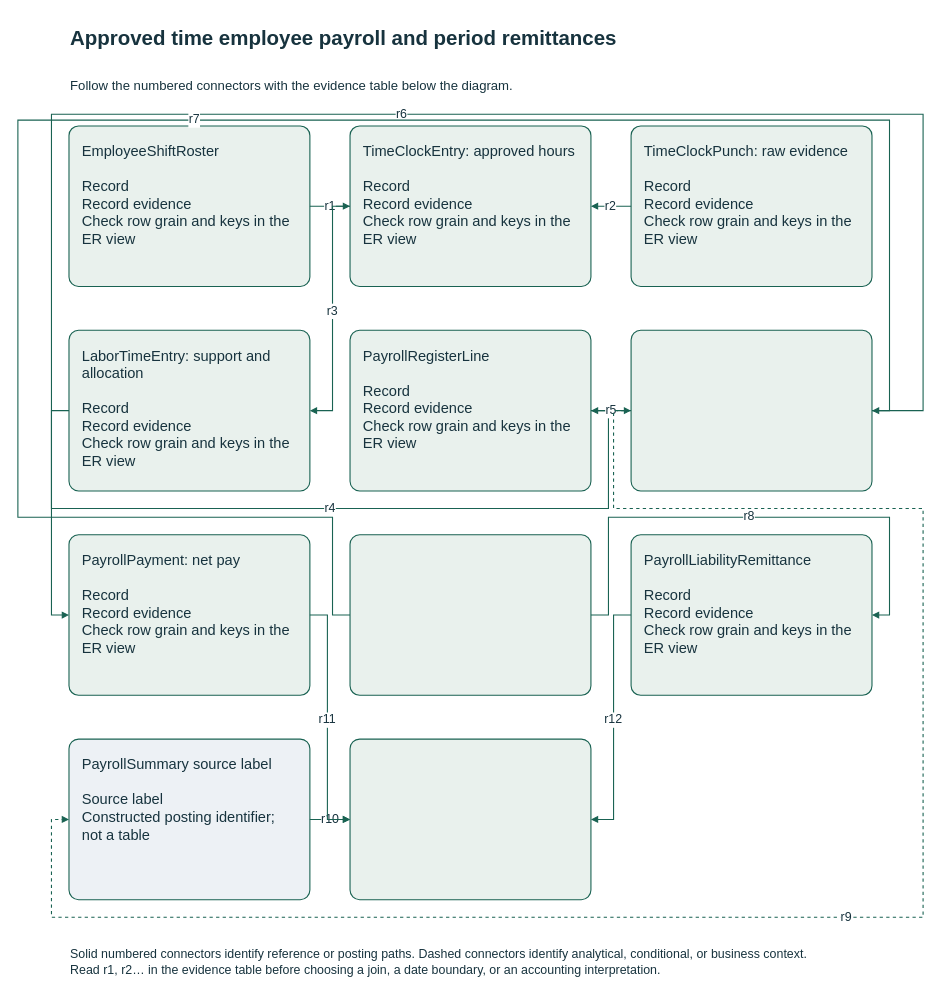
This 942x996 diagram has some shape labels left out. Here are the shapes that lost their labels. From the top down, the box of each, then its label:
(630, 329, 872, 491): PayrollRegister Record Record evidence Check row grain and keys in the ER view
(349, 534, 591, 696): PayrollPeriod Record Record evidence Check row grain and keys in the ER view
(349, 738, 591, 900): GLEntry Record Record evidence Check row grain and keys in the ER view
